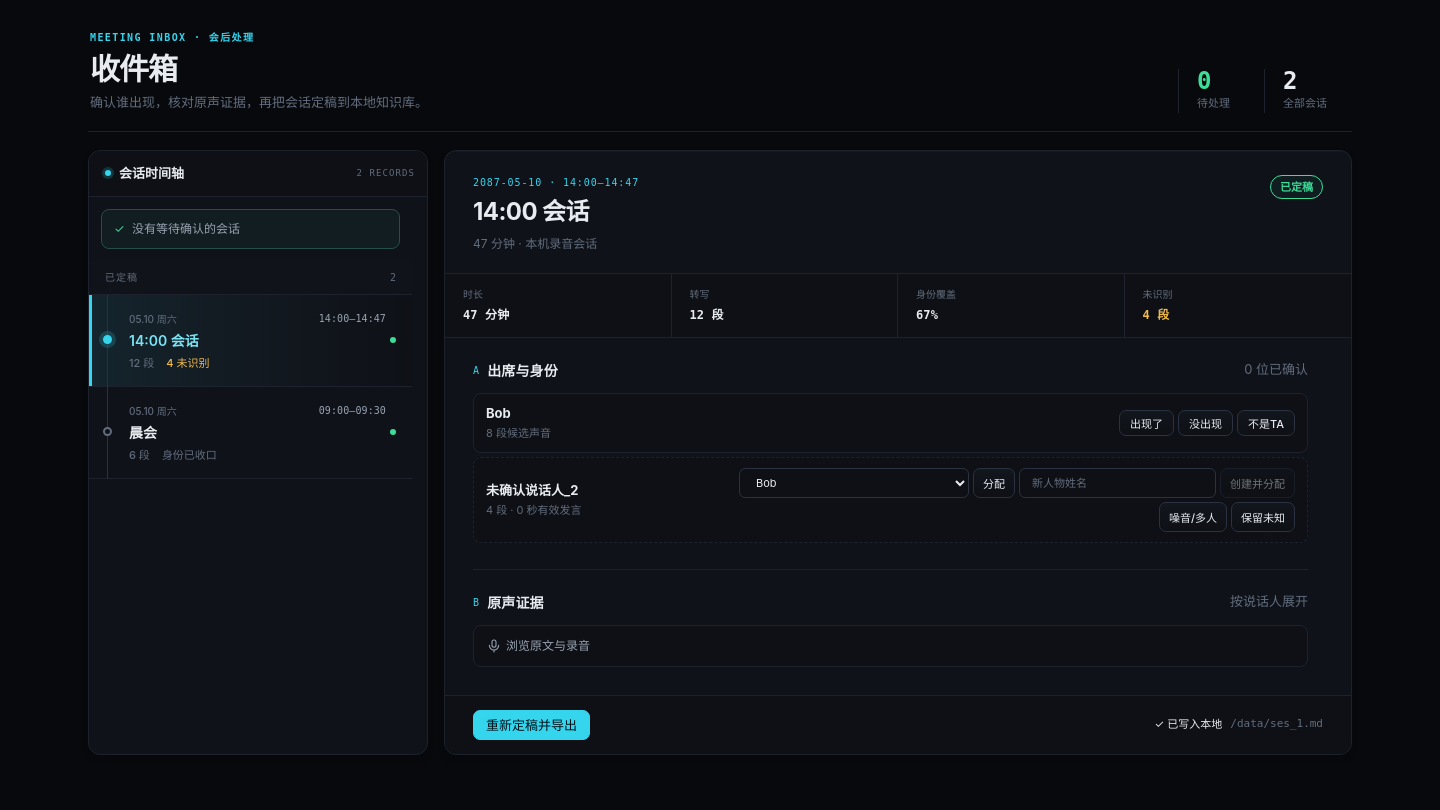
Test: InboxPanel › keeps an all-finalized inbox useful by selecting the newest session
The width and height of the screenshot is (1440, 810).
expect the element named "14:00 会话详情" is shown: met, box [444,150,1352,755]
expect the text "没有等待确认的会话" is shown: met, box [129,221,240,236]
Click the button "05.10 周六 09:00—09:30 晨会 6 段 身份已收口" at (153, 411), box [89,387,412,479]
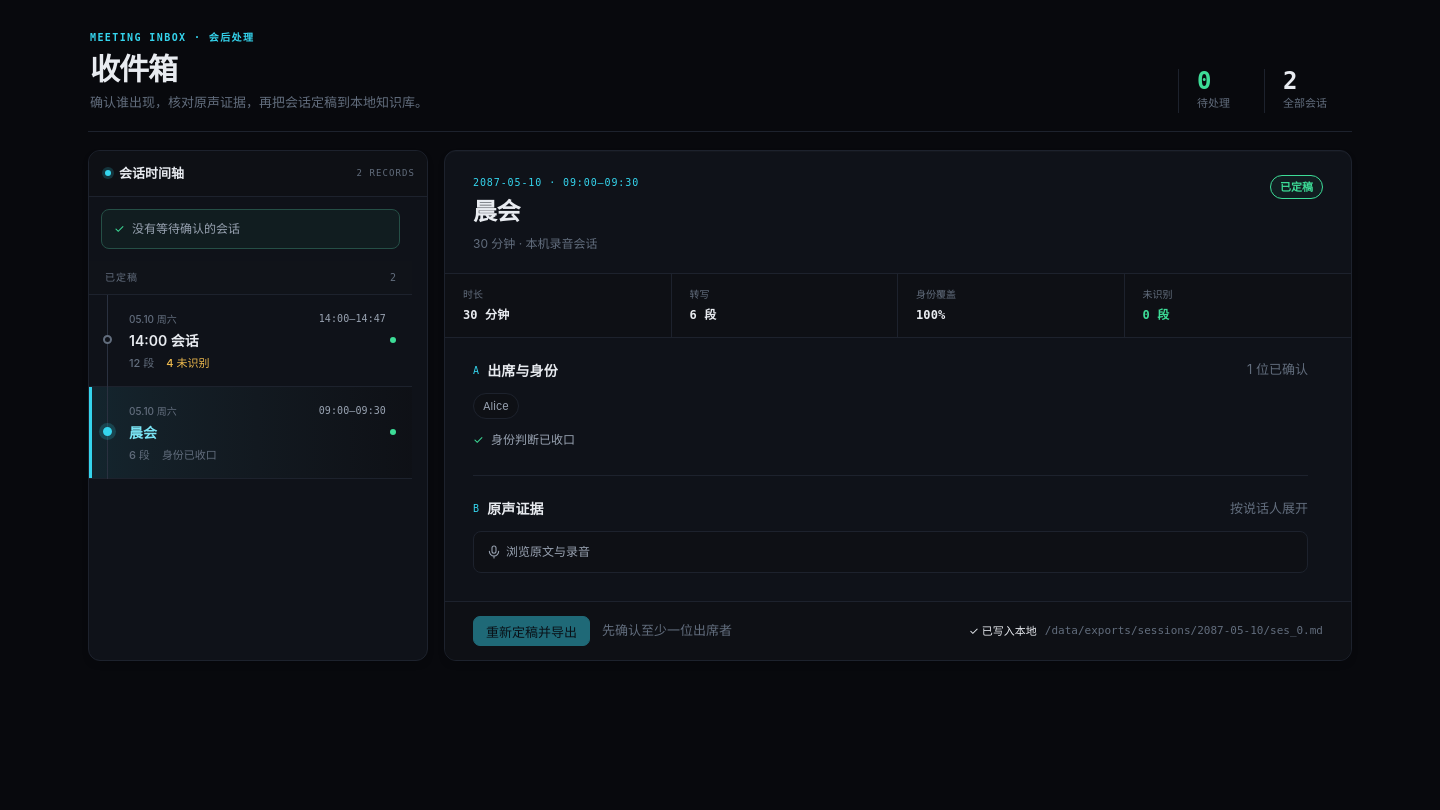
expect the element named "晨会详情" is shown: met, box [444,150,1352,661]
